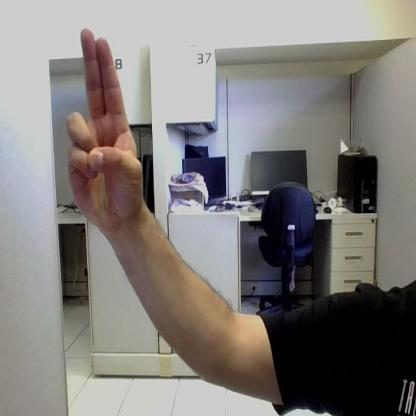U: (67, 29, 142, 228)
